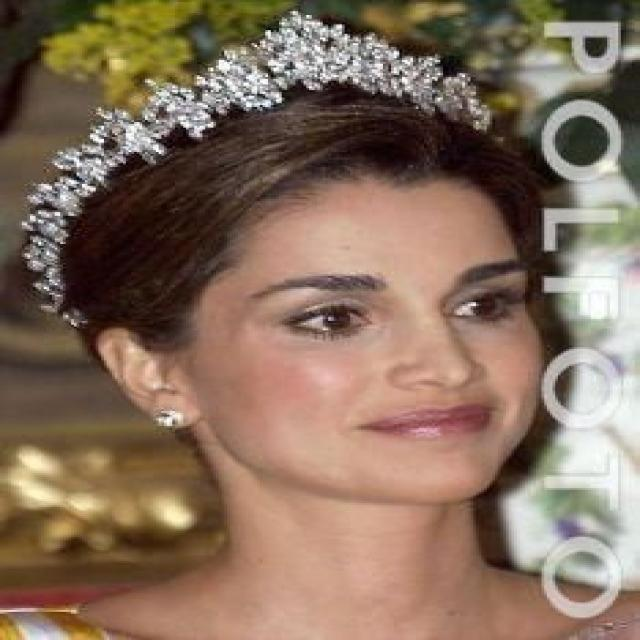Earring: (144, 402, 194, 438)
